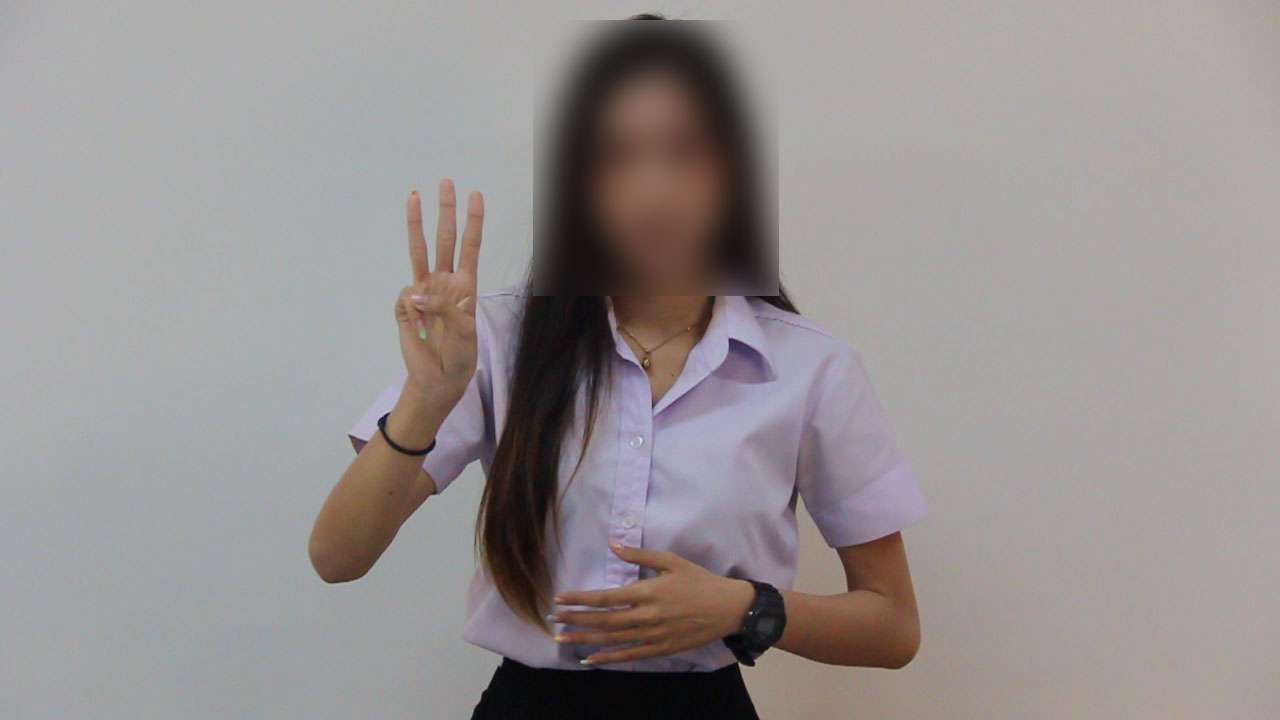wor: (379, 166, 491, 417)
